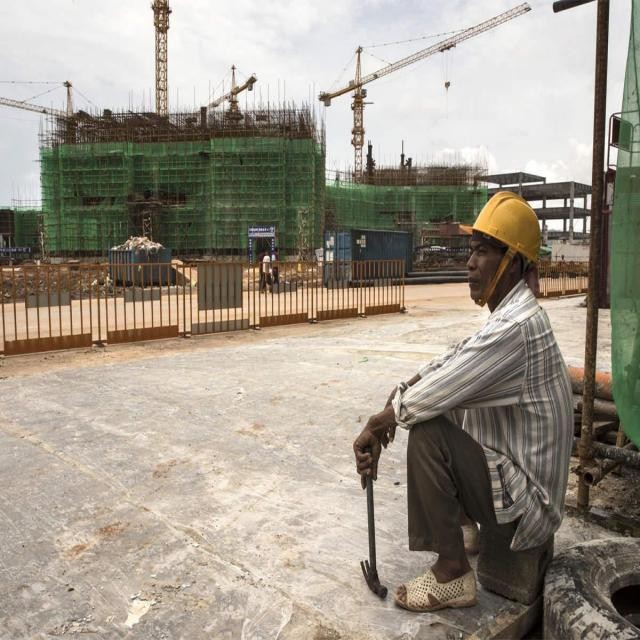Safety-Helmet: (459, 187, 550, 269)
